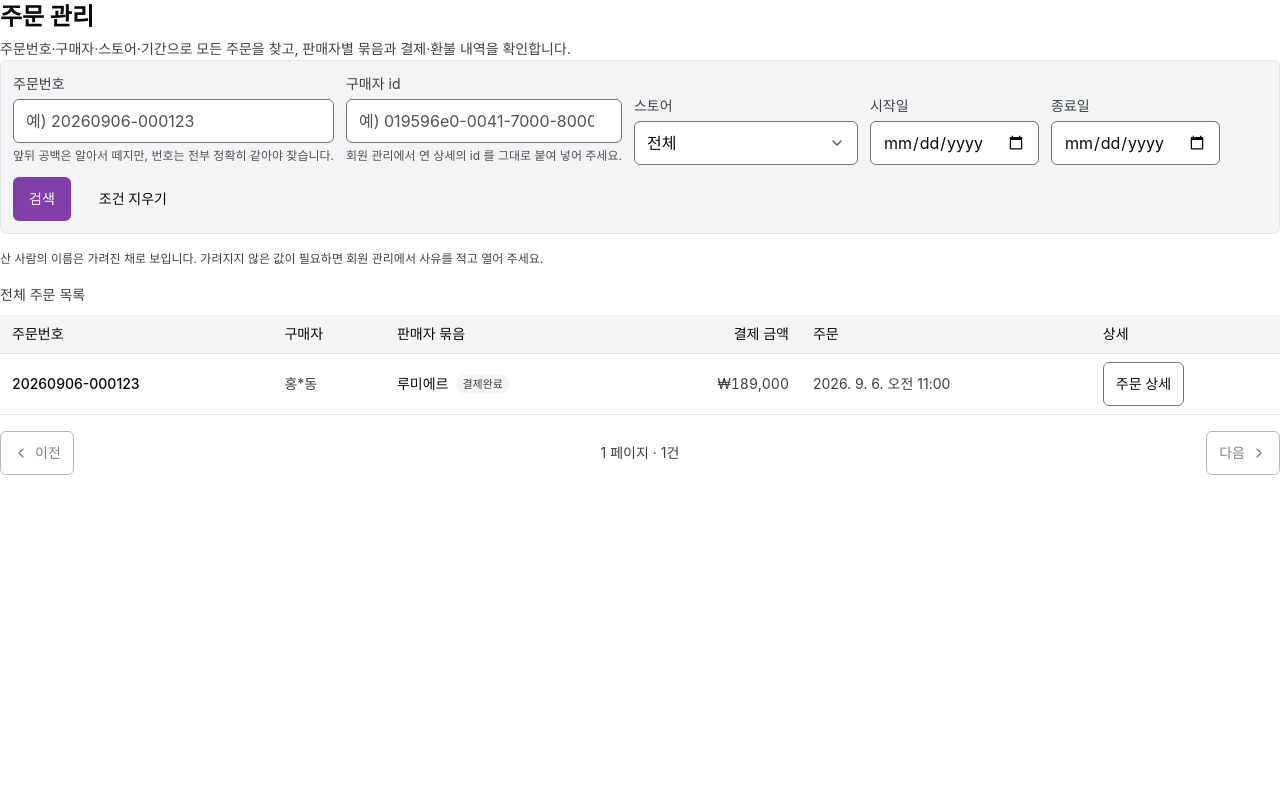
Test: 주문 상세 (F5 · F6 · F7) › reads the payments and totals what was refunded
Expected: the table "전체 주문 목록" is shown, [0,284,1279,415]
What coordinates should you click on to do the following:
click the button "주문 상세"
I would click on:
 (1144, 384)
Its box is [1103,362,1184,406].
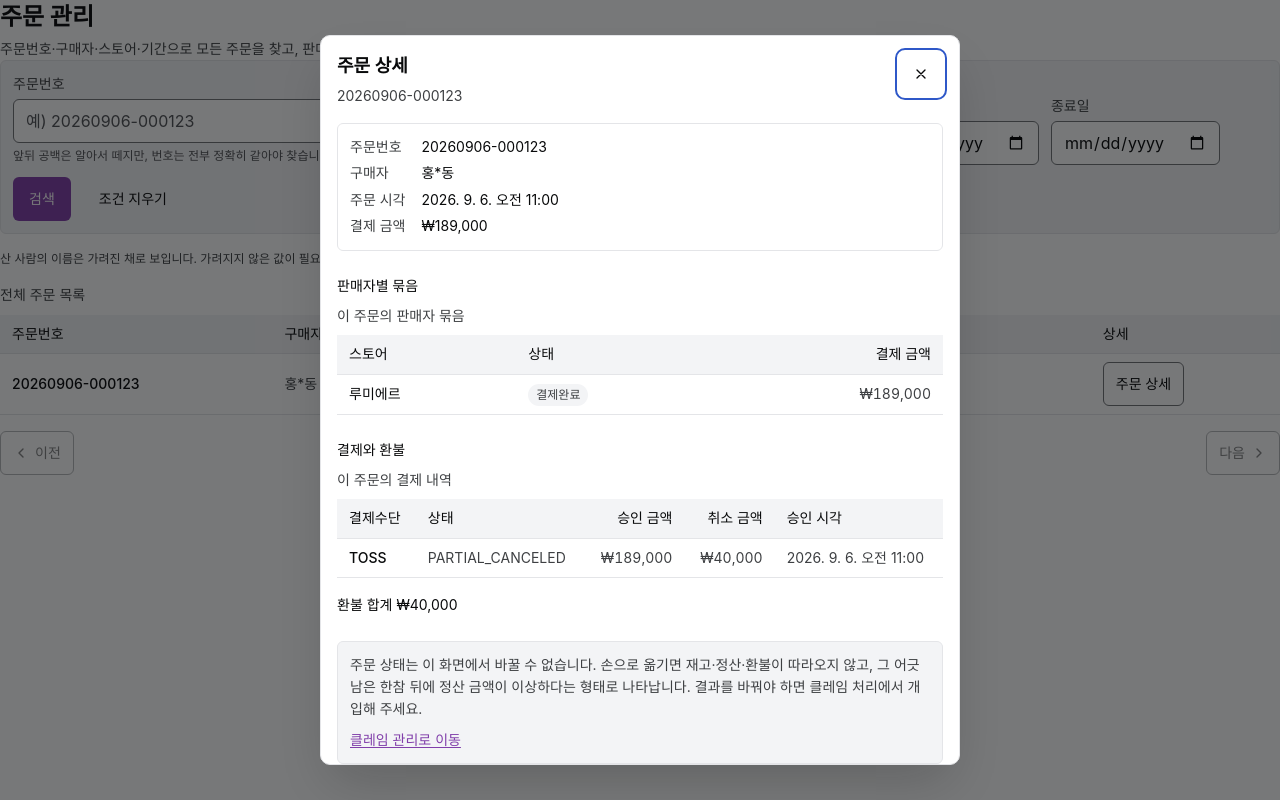
Expected: the text "₩40,000" is shown, [684,539,775,578]
Expected: the text "환불 합계 ₩40,000" is shown, [337,596,458,613]
